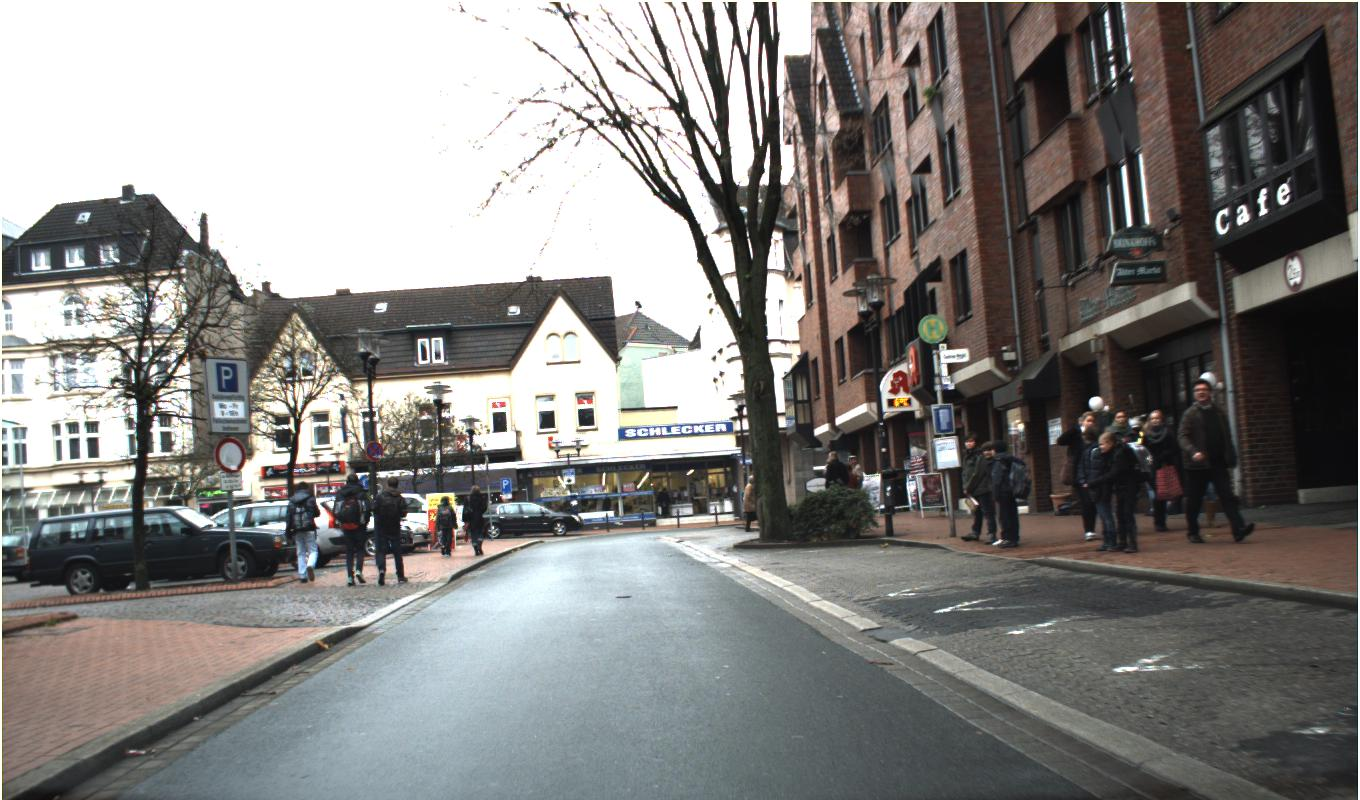prohibitory: (213, 435, 247, 474)
